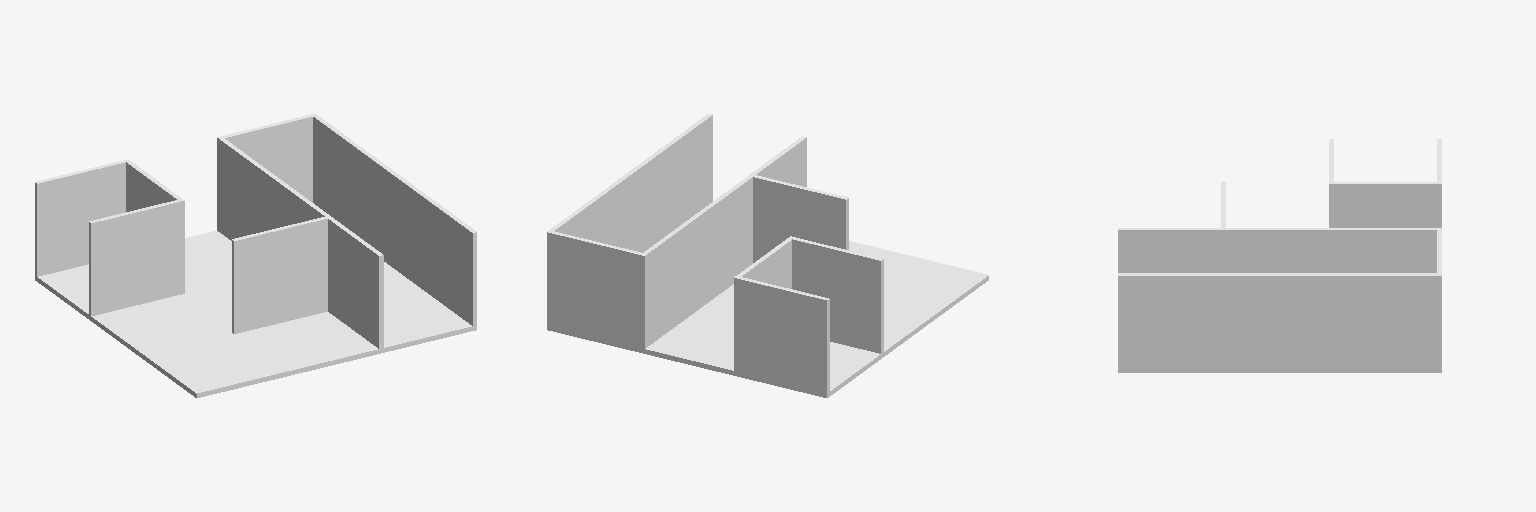
The model's file is level_maze-12.obj.
3 views of the same model, side by side, from view 1: azimuth 30°, elevation 25°; view 2: azimuth 150°, elevation 25°; view 3: azimuth 270°, elevation 25° (orthographic).
Visible parts, largest first — view 1: level_maze-12; view 2: level_maze-12; view 3: level_maze-12.
Boxes of the visible parts, x1=… form: level_maze-12: x1=35, y1=114, x2=476, y2=397; level_maze-12: x1=547, y1=114, x2=988, y2=397; level_maze-12: x1=1118, y1=139, x2=1441, y2=372.
Size of the model in its own units: 60 by 20 by 60.